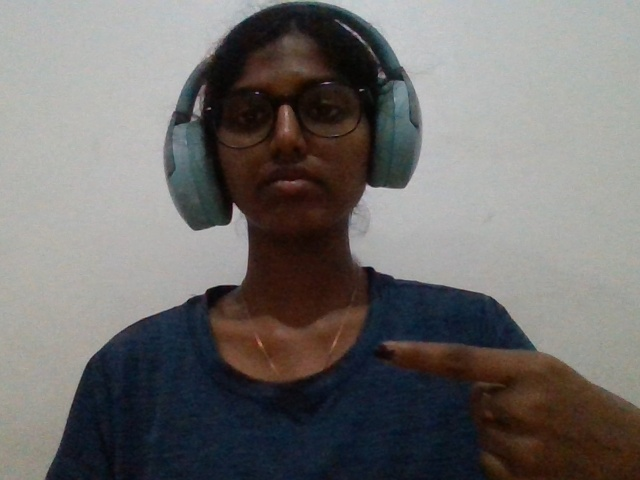Me: (341, 310, 640, 467)
